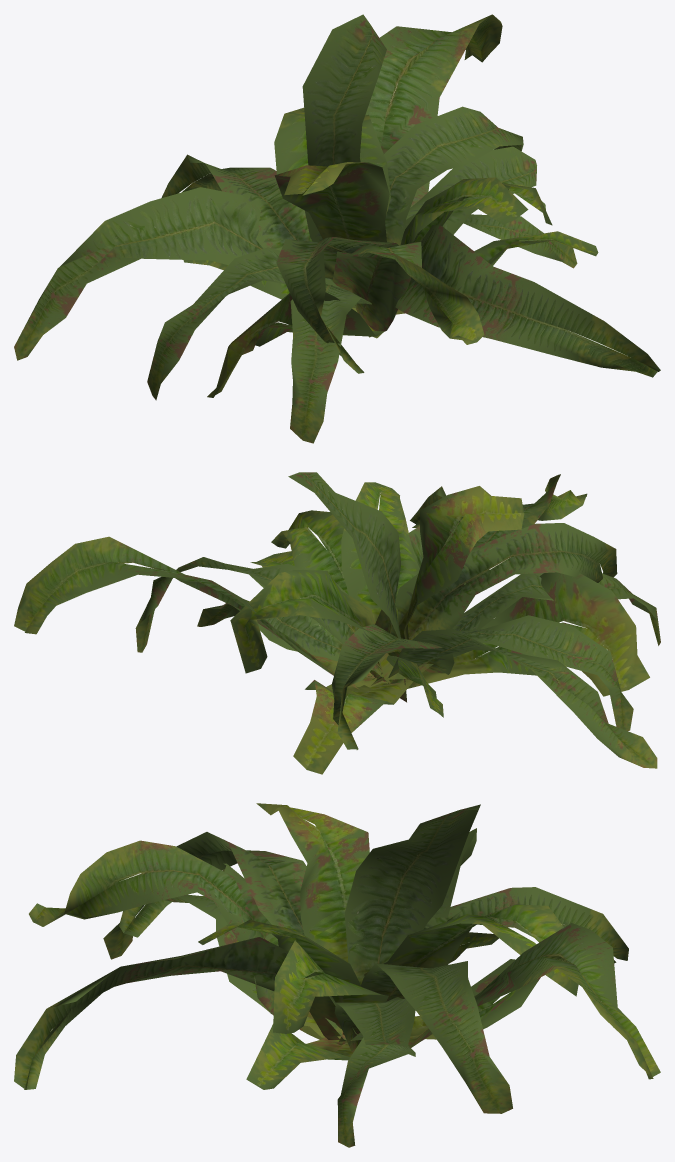
The model's file is fern_02.gltf.
The picture shows the model from 3 angles, top to bottom: view 1: azimuth 30°, elevation 25°; view 2: azimuth 150°, elevation 25°; view 3: azimuth 270°, elevation 25°; orthographic projection. The views are drawn at different scales.
Visible parts, largest first — view 1: fern_02_b; view 2: fern_02_b; view 3: fern_02_b.
Part boxes in pixels (x1=…): fern_02_b: x1=14, y1=14, x2=660, y2=443; fern_02_b: x1=14, y1=472, x2=660, y2=774; fern_02_b: x1=14, y1=803, x2=660, y2=1147.
Size of the model in its own units: 0.9897 by 0.4261 by 0.895.
Materials: 1 (1 with a texture image).
